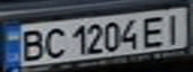0: (103, 18, 124, 52)
1: (66, 21, 87, 56)
2: (84, 20, 106, 55)
4: (118, 16, 145, 51)
B: (15, 27, 48, 63)
C: (39, 25, 69, 60)
E: (136, 12, 172, 48)
I: (157, 10, 190, 44)
